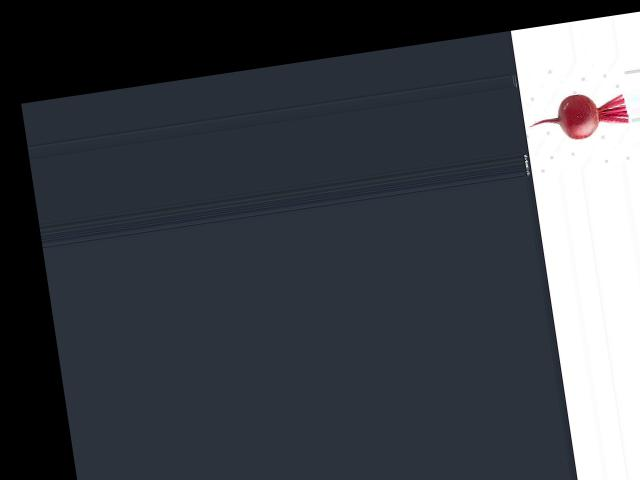beet: (524, 87, 630, 146)
